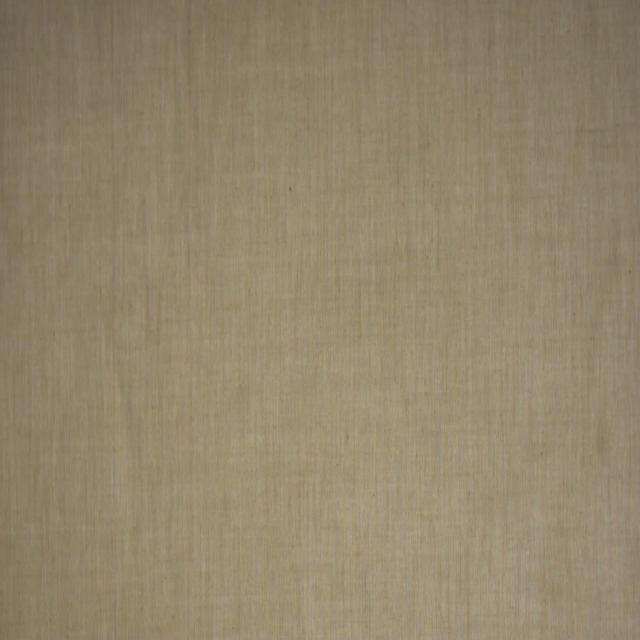dirty: (594, 420, 606, 460)
